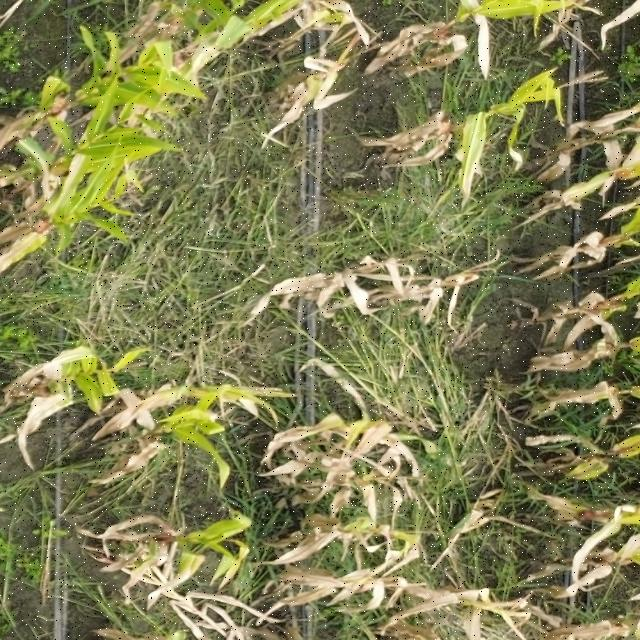northern-leaf-blight: (560, 431, 636, 496), (55, 145, 99, 213), (150, 544, 202, 598)
